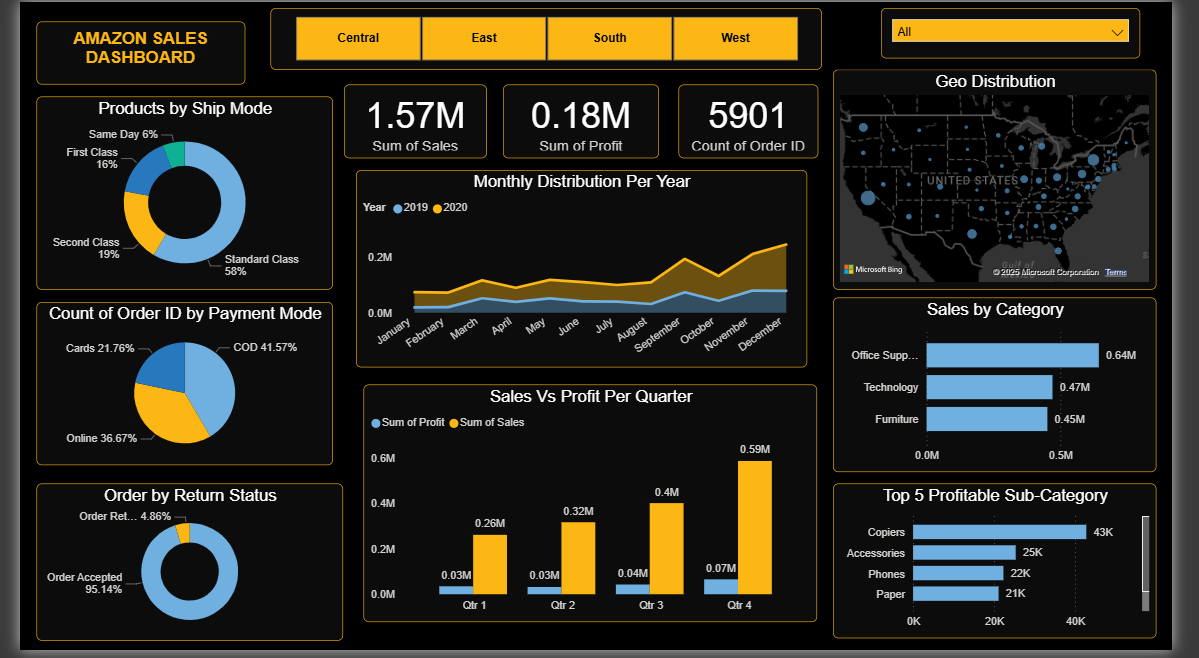

What the dashboard file says about the page in this screenshot:
{"tool":"powerbi","page":{"name":"Page 1","canvas":[1280,720],"ordinal":0},"visuals":[{"type":"clusteredBarChart","title":"Sales by Category","fields":{"Category":["Amazon Store Sales Data xlsx - Sheet1 (1).Category"],"Y":["Sum(Amazon Store Sales Data xlsx - Sheet1 (1).Sales)"]},"box":[903.5,327.7,359.5,194.1],"z":0},{"type":"clusteredBarChart","title":"Top 5 Profitable Sub-Category","fields":{"Category":["Amazon Store Sales Data xlsx - Sheet1 (1).Sub-Category"],"Y":["Sum(Amazon Store Sales Data xlsx - Sheet1 (1).Profit)"]},"box":[903.5,534.4,359.5,171.8],"z":1000},{"type":"donutChart","title":"Products by Ship Mode","fields":{"Category":["Amazon Store Sales Data xlsx - Sheet1 (1).Ship Mode"],"Y":["CountNonNull(Amazon Store Sales Data xlsx - Sheet1 (1).Product ID)"]},"box":[19.1,105,329.3,214.7],"z":2000},{"type":"pieChart","fields":{"Category":["Amazon Store Sales Data xlsx - Sheet1 (1).Payment Mode"],"Y":["CountNonNull(Amazon Store Sales Data xlsx - Sheet1 (1).Order ID)"]},"box":[19.1,334,329.3,181.3],"z":3000},{"type":"donutChart","title":"Order by Return Status","fields":{"Category":["Amazon Store Sales Data xlsx - Sheet1 (1).Return Status"],"Y":["CountNonNull(Amazon Store Sales Data xlsx - Sheet1 (1).Order ID)"]},"box":[19.1,534.4,340.4,175],"z":4000},{"type":"stackedAreaChart","title":"Monthly Distribution Per Year","fields":{"Category":["Amazon Store Sales Data xlsx - Sheet1 (1).Order Date.Variation.Date Hierarchy.Month"],"Y":["Sum(Amazon Store Sales Data xlsx - Sheet1 (1).Sales)"],"Series":["Amazon Store Sales Data xlsx - Sheet1 (1).Order Date.Variation.Date Hierarchy.Year"]},"box":[373.8,186.1,501,219.5],"z":5000},{"type":"clusteredColumnChart","title":"Sales Vs Profit Per Quarter","fields":{"Category":["Amazon Store Sales Data xlsx - Sheet1 (1).Order Date.Variation.Date Hierarchy.Quarter"],"Y":["Sum(Amazon Store Sales Data xlsx - Sheet1 (1).Profit)","Sum(Amazon Store Sales Data xlsx - Sheet1 (1).Sales)"]},"box":[381.7,424.7,504.2,264],"z":6000},{"type":"map","title":"Geo Distribution","fields":{"Category":["Amazon Store Sales Data xlsx - Sheet1 (1).State"],"Size":["Sum(Amazon Store Sales Data xlsx - Sheet1 (1).Sales)"]},"box":[903.5,74.8,359.5,245],"z":7000},{"type":"slicer","fields":{"Values":["Amazon Store Sales Data xlsx - Sheet1 (1).Region"]},"box":[278.4,6.4,612.4,68.4],"z":8000},{"type":"slicer","fields":{"Values":["Amazon Store Sales Data xlsx - Sheet1 (1).State"]},"box":[956,6.4,287.9,55.7],"z":9000},{"type":"textbox","box":[18.3,21.7,231.7,70],"z":10000},{"type":"card","fields":{"Values":["Sum(Amazon Store Sales Data xlsx - Sheet1 (1).Sales)"]},"box":[360,91.7,158.3,81.7],"z":11000},{"type":"card","fields":{"Values":["Sum(Amazon Store Sales Data xlsx - Sheet1 (1).Profit)"]},"box":[536.7,91.7,173.3,81.7],"z":12000},{"type":"card","fields":{"Values":["CountNonNull(Amazon Store Sales Data xlsx - Sheet1 (1).Order ID)"]},"box":[731.7,91.7,155,81.7],"z":13000}]}

Visuals, with their boxes in screenshot pixels (x1, y1, x2, y2), scaled from the page's 1280x720 canvas onto the 1199x658 screenshot:
"Sales by Category" clusteredBarChart: <bbox>846, 299, 1183, 477</bbox>
"Top 5 Profitable Sub-Category" clusteredBarChart: <bbox>846, 488, 1183, 645</bbox>
"Products by Ship Mode" donutChart: <bbox>18, 96, 326, 292</bbox>
pieChart - Amazon Store Sales Data xlsx - Sheet1 (1).Payment Mode x CountNonNull(Amazon Store Sales Data xlsx - Sheet1 (1).Order ID): <bbox>18, 305, 326, 471</bbox>
"Order by Return Status" donutChart: <bbox>18, 488, 337, 648</bbox>
"Monthly Distribution Per Year" stackedAreaChart: <bbox>350, 170, 819, 371</bbox>
"Sales Vs Profit Per Quarter" clusteredColumnChart: <bbox>358, 388, 830, 629</bbox>
"Geo Distribution" map: <bbox>846, 68, 1183, 292</bbox>
slicer - Amazon Store Sales Data xlsx - Sheet1 (1).Region: <bbox>261, 6, 834, 68</bbox>
slicer - Amazon Store Sales Data xlsx - Sheet1 (1).State: <bbox>896, 6, 1165, 57</bbox>
textbox: <bbox>17, 20, 234, 84</bbox>
card - Sum(Amazon Store Sales Data xlsx - Sheet1 (1).Sales): <bbox>337, 84, 486, 158</bbox>
card - Sum(Amazon Store Sales Data xlsx - Sheet1 (1).Profit): <bbox>503, 84, 665, 158</bbox>
card - CountNonNull(Amazon Store Sales Data xlsx - Sheet1 (1).Order ID): <bbox>685, 84, 831, 158</bbox>
